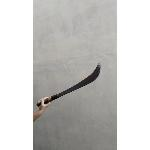Golok: (36, 61, 104, 109)
